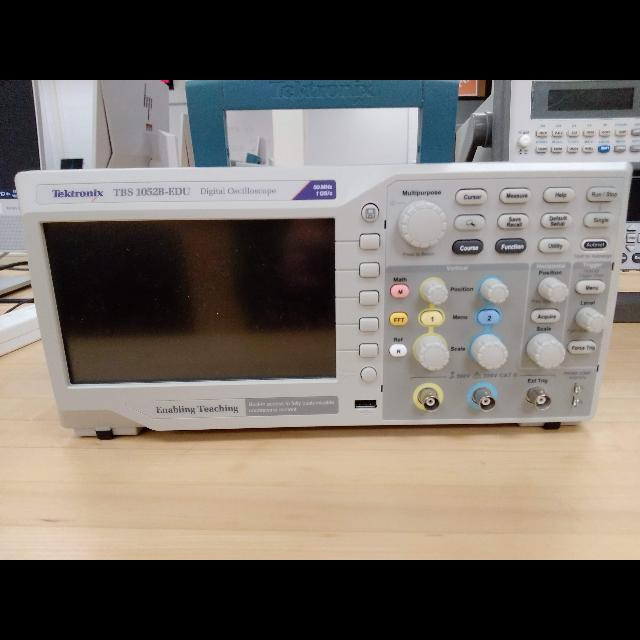Digital-Oscilloscope: (16, 166, 626, 433)
